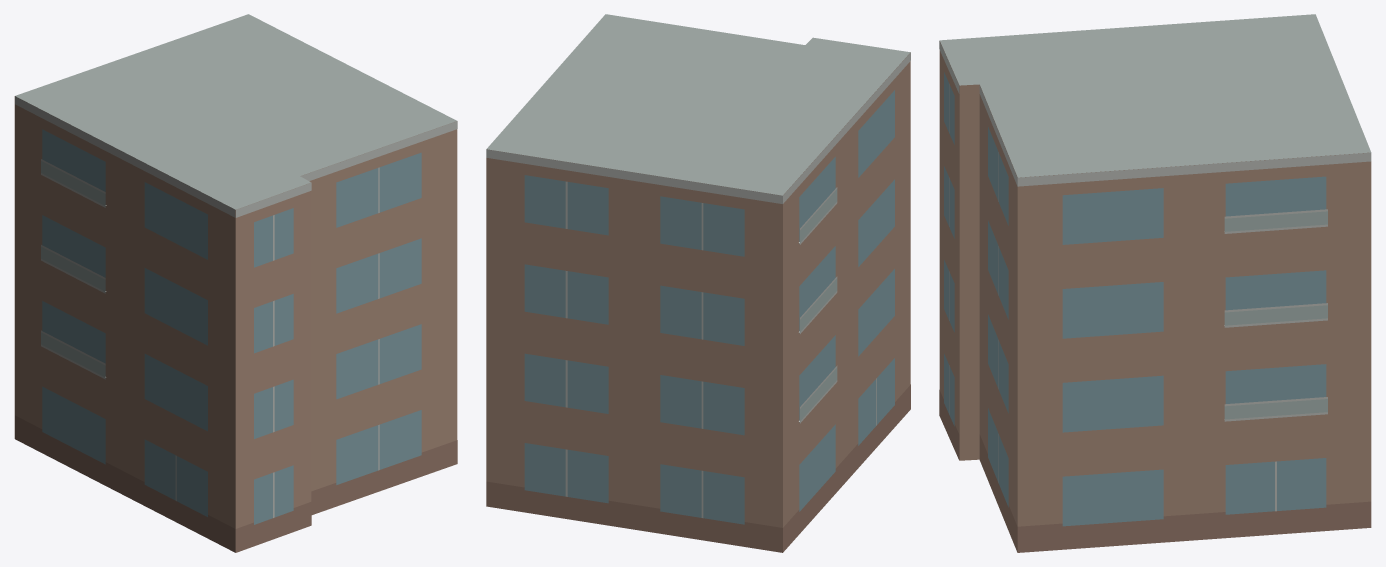
Rendered from survey-upis-32705908.glb.
3 renders of one model, left to right at view 1: azimuth 30°, elevation 25°; view 2: azimuth 150°, elevation 25°; view 3: azimuth 270°, elevation 25°, orthographic. The views are drawn at different scales.
Visible parts, largest first — view 1: survey-upis-32705908.tmp; view 2: survey-upis-32705908.tmp; view 3: survey-upis-32705908.tmp.
Boxes of the visible parts, x1=… form: survey-upis-32705908.tmp: x1=14, y1=14, x2=457, y2=552; survey-upis-32705908.tmp: x1=486, y1=14, x2=910, y2=552; survey-upis-32705908.tmp: x1=939, y1=14, x2=1371, y2=552.
Bounding box in the file's own units: 9.55 × 10.2 × 10.65.
